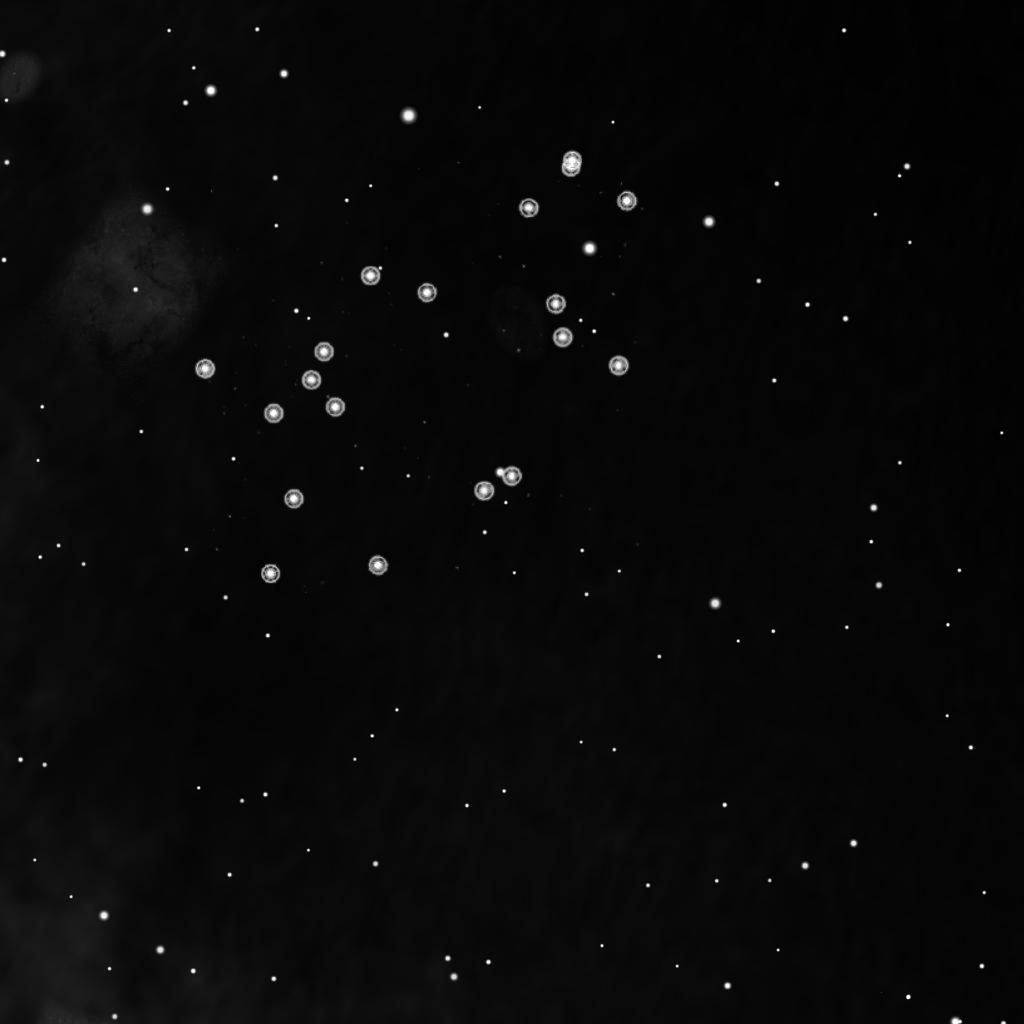canis_major: (251, 259, 447, 435)
